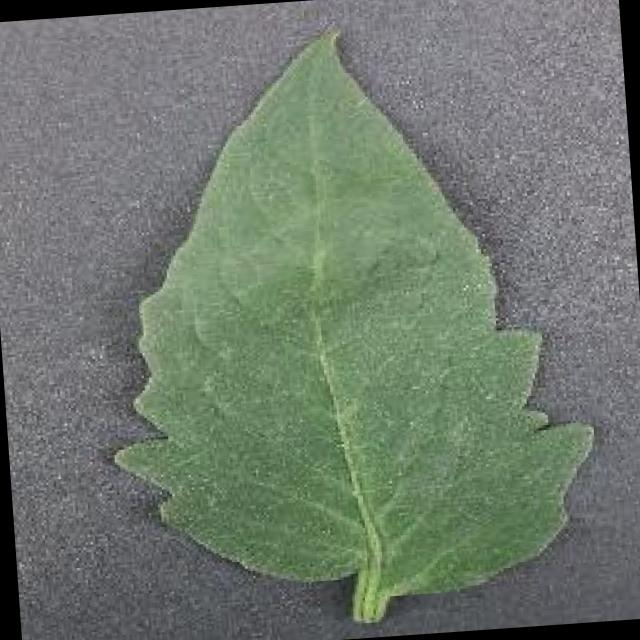Tomato_Healthy: (75, 5, 614, 626)
